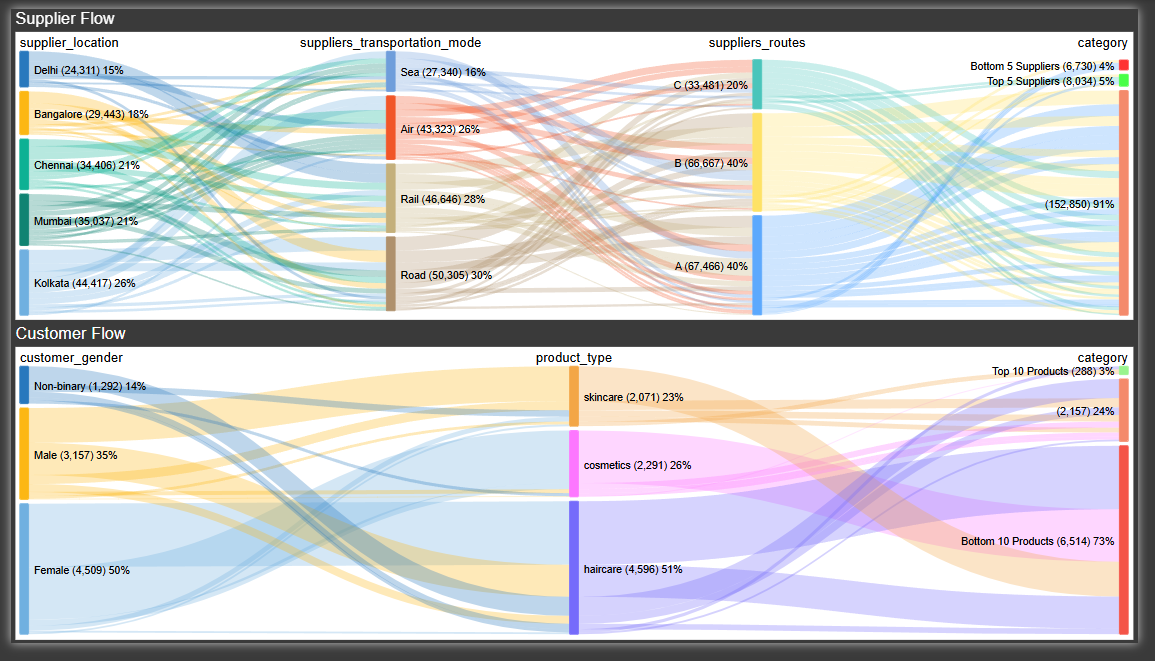

This screenshot's page, from the dashboard's own definition file:
{"tool":"powerbi","page":{"name":"Product/Supplier Flow","canvas":[1280,720],"ordinal":1},"visuals":[{"type":"sankey_diagram_visiochart_8c1a6a012eec472d899f79bf867da012","title":"Customer Flow","fields":{"category":["supplychain customers.customer_gender","supplychain products.product_type","supplychain product_analysis.category"],"measure":["Avg(supplychain sales.revenue_per_product)","Avg(supplychain sales.products_sold)","Avg(supplychain product_analysis.annual_consumption_value)"]},"box":[0,358,1279.5,362.5],"z":1000},{"type":"sankey_diagram_visiochart_8c1a6a012eec472d899f79bf867da012","title":"Supplier Flow","fields":{"category":["supplychain suppliers.supplier_location","supplychain suppliers.suppliers_transportation_mode","supplychain suppliers.suppliers_routes","supplychain suppliers_analysis.category"],"measure":["Sum(SafetyStockTable.Average Lead Time Demand)"]},"box":[0,0,1279.5,358],"z":2000}]}

Visuals, with their boxes in screenshot pixels (x1, y1, x2, y2), scaled from the page's 1280x720 canvas onto the 1155x661 screenshot:
"Customer Flow" sankey_diagram_visiochart_8c1a6a012eec472d899f79bf867da012: region(0, 329, 1154, 660)
"Supplier Flow" sankey_diagram_visiochart_8c1a6a012eec472d899f79bf867da012: region(0, 0, 1154, 329)
